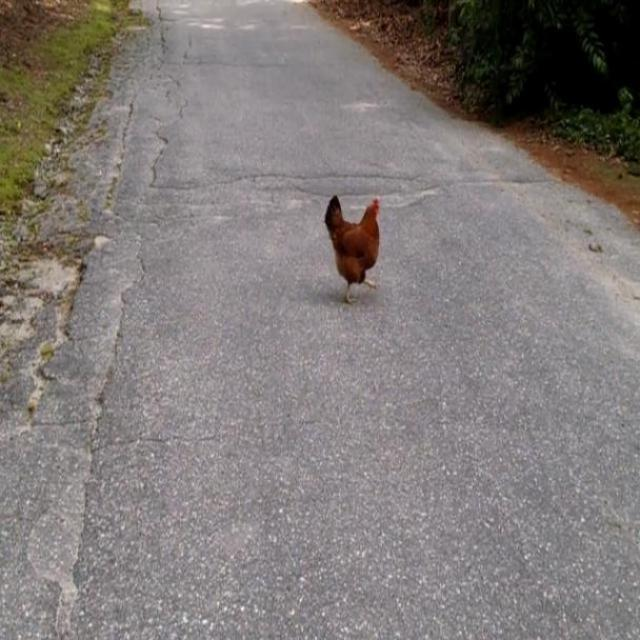Chicken: (323, 194, 381, 306)
